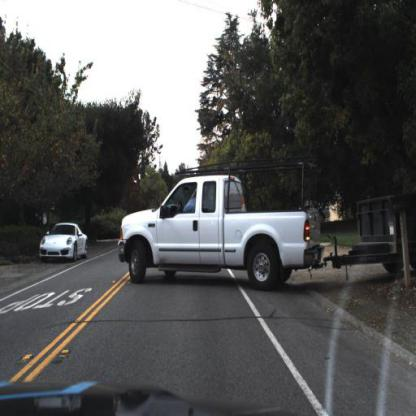car: (37, 218, 88, 264)
truck: (108, 139, 416, 319)
